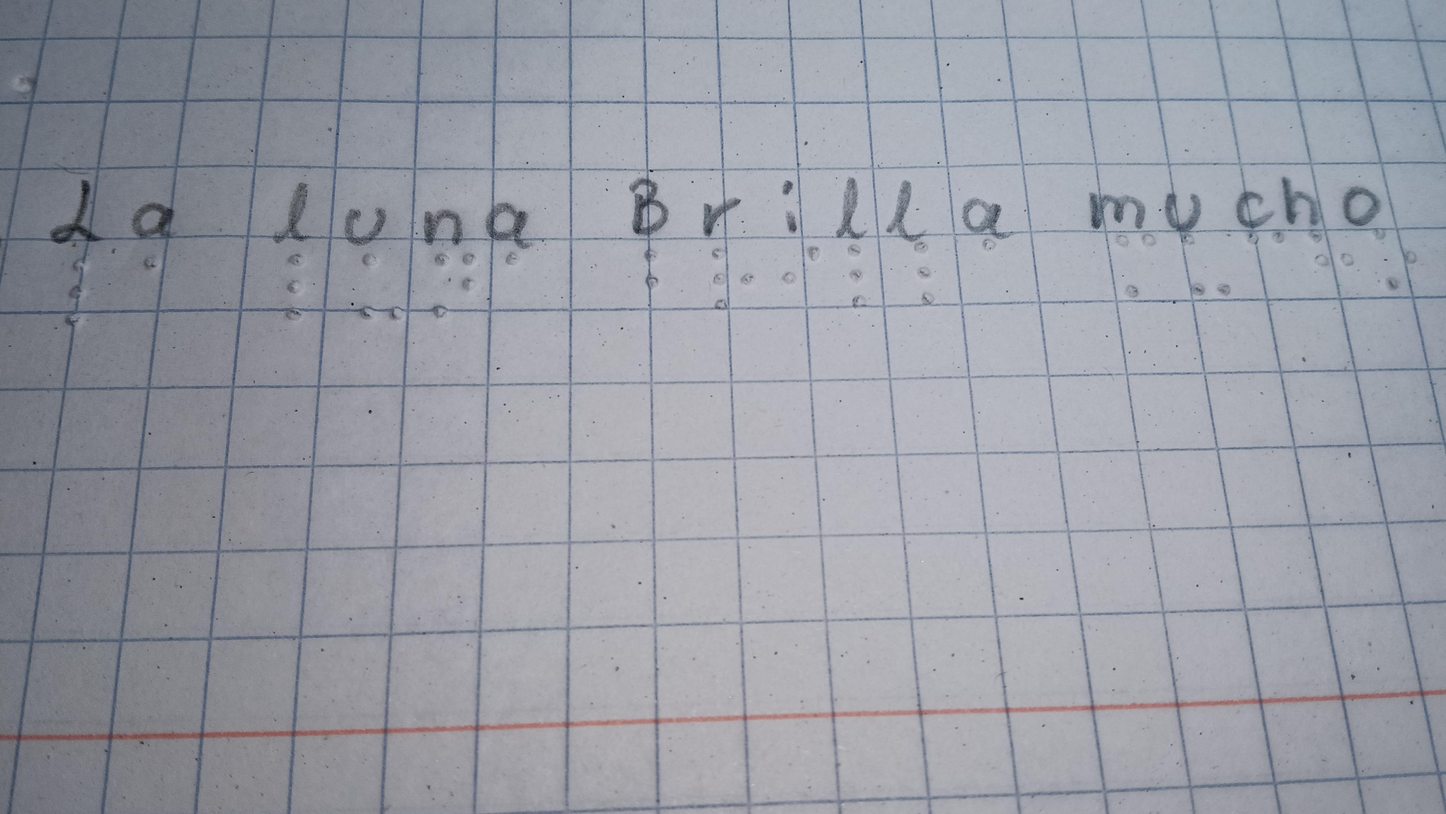a: (971, 234, 1021, 282), (477, 234, 535, 275), (129, 243, 167, 291)
b: (615, 245, 684, 296)
c: (1248, 223, 1288, 264)
h: (1311, 225, 1356, 273)
i: (774, 243, 828, 296)
l: (55, 257, 115, 346), (893, 238, 953, 314), (271, 250, 328, 326), (836, 239, 877, 317)
m: (1104, 229, 1168, 300)
n: (420, 246, 484, 321)
o: (1372, 222, 1423, 292)
r: (698, 248, 760, 314)
u: (351, 245, 411, 328), (1177, 230, 1240, 298)
